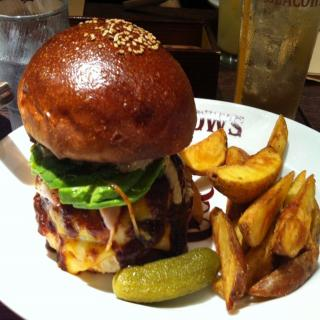French fries: (199, 165, 316, 299)
Hamburger: (16, 20, 194, 279)
